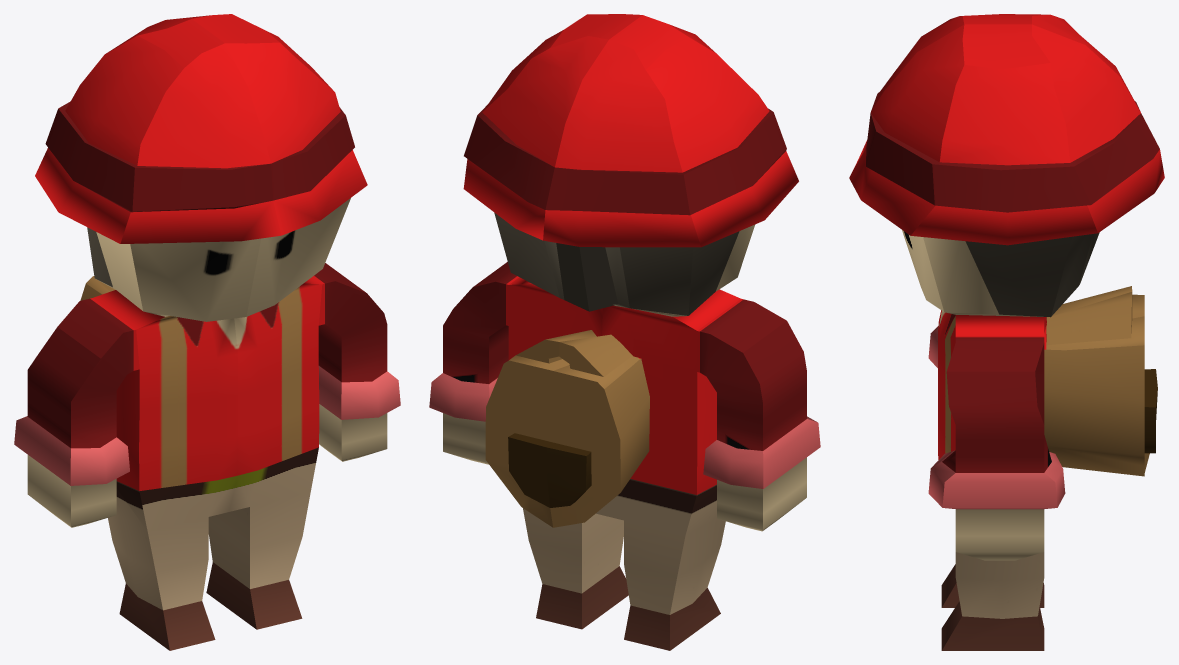
Rendered from enemy.fbx.
The picture shows the model from 3 angles, left to right: view 1: azimuth 30°, elevation 25°; view 2: azimuth 150°, elevation 25°; view 3: azimuth 270°, elevation 25°; orthographic projection.
Visible parts, largest first — view 1: polySurface1; view 2: polySurface1; view 3: polySurface1.
Boxes of the visible parts, x1=… form: polySurface1: x1=14, y1=14, x2=400, y2=650; polySurface1: x1=429, y1=14, x2=820, y2=650; polySurface1: x1=849, y1=14, x2=1164, y2=650.
Size of the model in its own units: 5.78 by 9.77 by 4.71.
